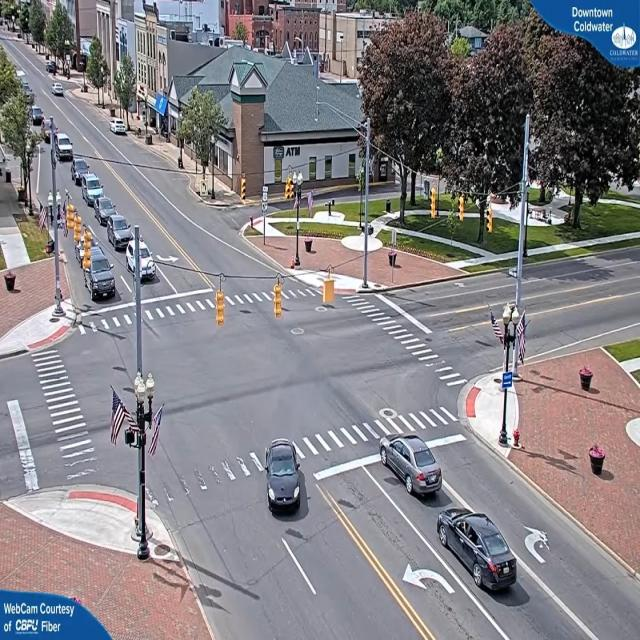car: (435, 509, 521, 595), (378, 434, 443, 500), (266, 438, 305, 516), (85, 246, 117, 296), (108, 216, 135, 250), (54, 132, 74, 162), (95, 198, 117, 222), (110, 120, 129, 136)
